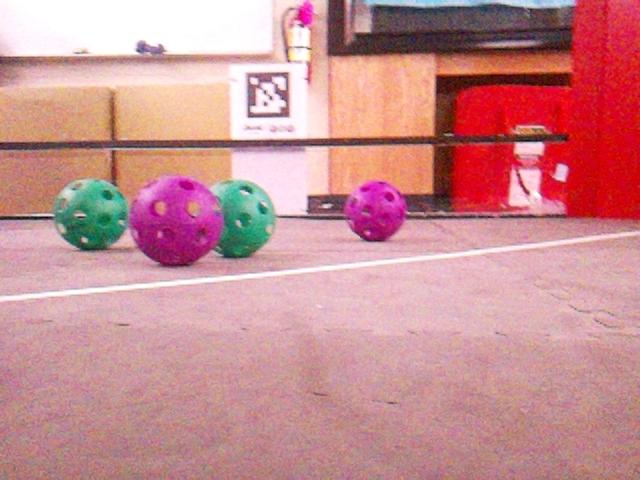Green: (51, 178, 128, 250), (207, 180, 274, 256)
Purple: (128, 175, 223, 264), (342, 179, 407, 241)
